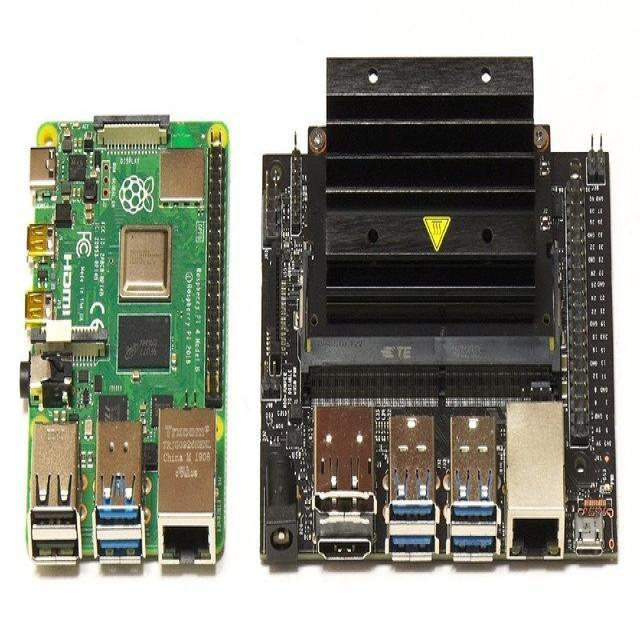Jetson Nano: (259, 56, 620, 565)
